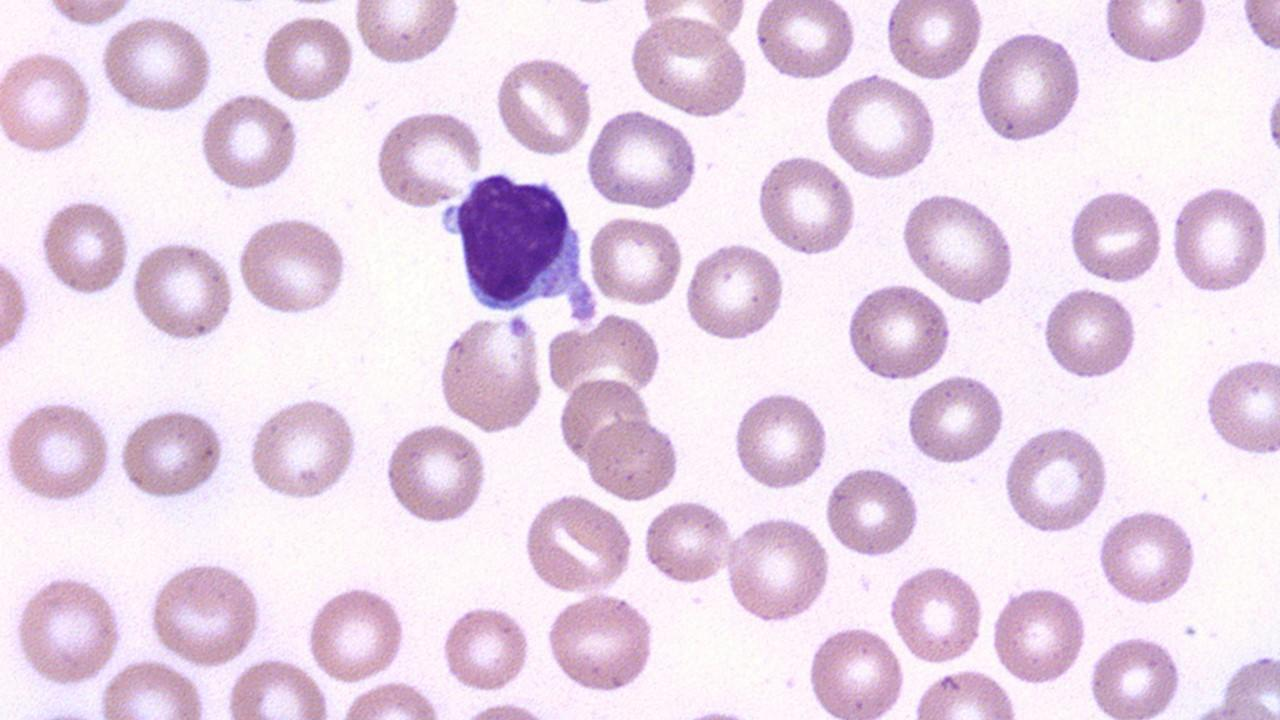RBC: (897, 190, 1020, 305), (434, 309, 548, 432), (11, 570, 125, 688), (146, 556, 264, 669), (974, 28, 1086, 145), (627, 16, 751, 121), (1001, 420, 1113, 536), (822, 72, 940, 182), (246, 392, 360, 505), (721, 512, 833, 624), (1, 396, 115, 506), (1167, 180, 1273, 298), (235, 214, 354, 319), (97, 12, 217, 115), (542, 590, 660, 694), (585, 107, 702, 211), (128, 236, 237, 345), (372, 106, 485, 211), (520, 491, 636, 593), (381, 421, 492, 526), (843, 280, 954, 383), (752, 153, 858, 258), (683, 238, 787, 345), (494, 50, 596, 159), (729, 386, 832, 493), (116, 404, 227, 502), (0, 45, 96, 158), (304, 582, 410, 684), (194, 93, 303, 192), (1095, 506, 1201, 607), (886, 560, 986, 666), (989, 582, 1089, 686), (802, 622, 908, 718), (902, 372, 1010, 466), (1065, 186, 1167, 284), (1039, 283, 1139, 382), (36, 196, 132, 298), (822, 462, 922, 558), (586, 212, 686, 308), (256, 12, 357, 105), (582, 416, 686, 505), (437, 600, 533, 695), (1084, 630, 1184, 717), (752, 1, 858, 82), (1201, 352, 1279, 461), (640, 497, 731, 588), (882, 1, 984, 82), (1100, 1, 1210, 67), (350, 3, 464, 66), (94, 656, 210, 716), (221, 654, 332, 716), (634, 1, 748, 54), (910, 667, 1022, 718), (337, 677, 447, 718), (0, 236, 31, 370), (34, 0, 142, 28), (1236, 2, 1280, 60)
WBC: (451, 169, 601, 315)
